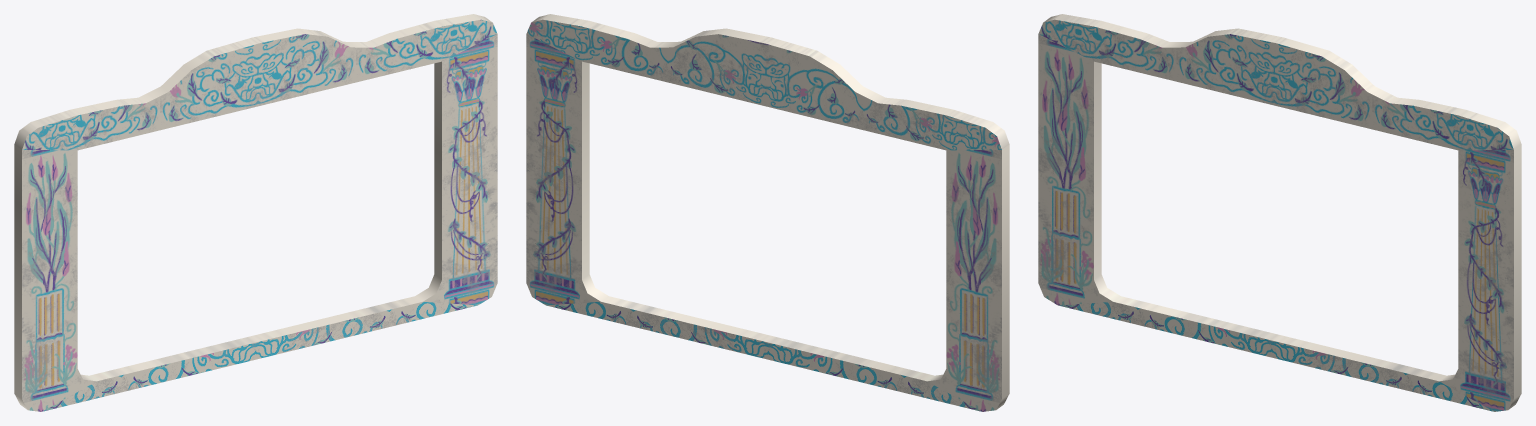
Rendered from Frame_Old_Vapor.glb.
3 views of the same model, side by side, from view 1: azimuth 30°, elevation 25°; view 2: azimuth 150°, elevation 25°; view 3: azimuth 330°, elevation 25° (orthographic).
Visible parts, largest first — view 1: Frame_Old_Vapor; view 2: Frame_Old_Vapor; view 3: Frame_Old_Vapor.
Part boxes in pixels (box(x1,y1,x2,y2)): Frame_Old_Vapor: box(14, 14, 497, 411); Frame_Old_Vapor: box(526, 14, 1009, 411); Frame_Old_Vapor: box(1038, 14, 1521, 411).
Size of the model in its own units: 4.88 by 3.09 by 0.1371.
Materials: 1 (1 with a texture image).
